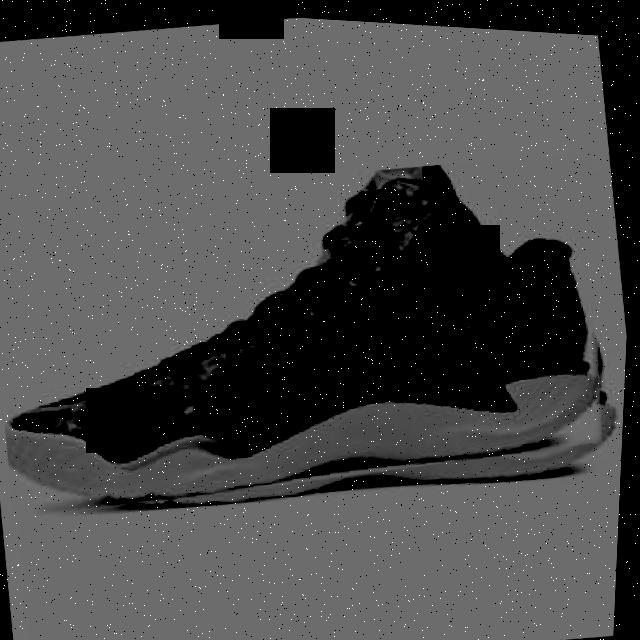shoe: (0, 117, 636, 549)
